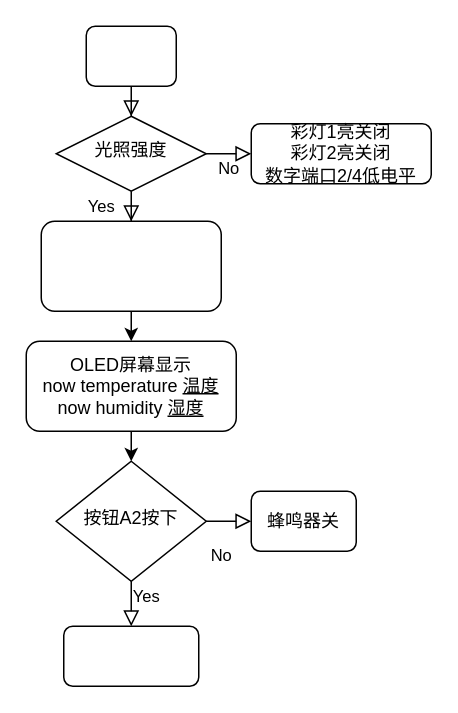
Some shapes in this 458 by 713 pixel diagram are drawn without their labels. Here are the shapes that lost their labels. From the top down, the centre of each, then its label:
At [130,55]: "开始".
At [130,265]: "彩灯1亮红光 彩灯2亮红光 数字端口2/4高电平".
At [130,655]: "蜂鸣器开 播放音乐".
